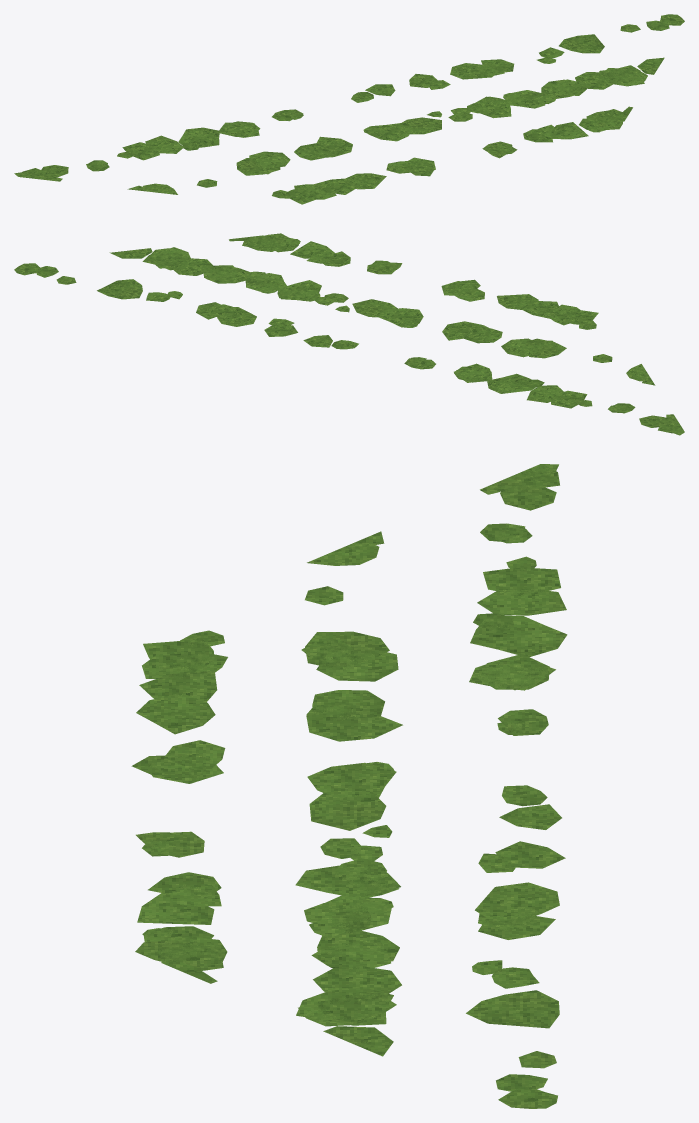
The model's file is kolej_porost_sikma_2.glb.
3 renders of one model, top to bottom at view 1: azimuth 30°, elevation 25°; view 2: azimuth 150°, elevation 25°; view 3: azimuth 270°, elevation 25°, orthographic. The views are drawn at different scales.
Visible parts, largest first — view 1: kolej_porost_sikma_2; view 2: kolej_porost_sikma_2; view 3: kolej_porost_sikma_2.
Boxes of the visible parts, x1=… form: kolej_porost_sikma_2: x1=14, y1=14, x2=684, y2=204; kolej_porost_sikma_2: x1=14, y1=233, x2=684, y2=435; kolej_porost_sikma_2: x1=131, y1=464, x2=567, y2=1108.
Bounding box in the file's own units: 13.59 × 0 × 3.89.
Materials: 1 (1 with a texture image).
